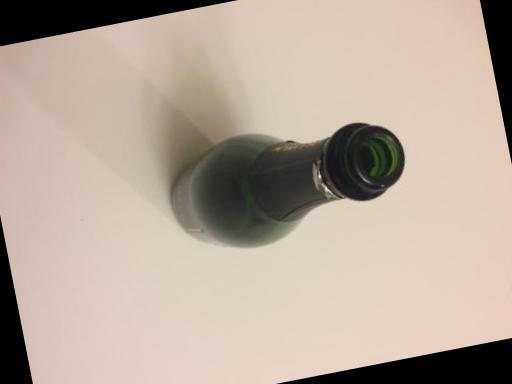glass: (132, 92, 443, 296)
